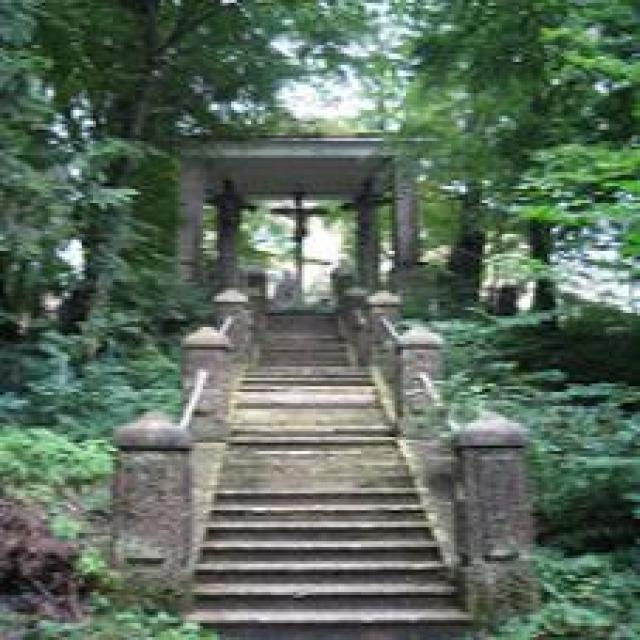stairs: (178, 307, 490, 637)
